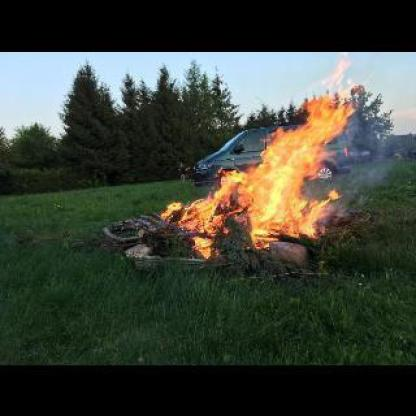fire: (143, 53, 371, 259)
